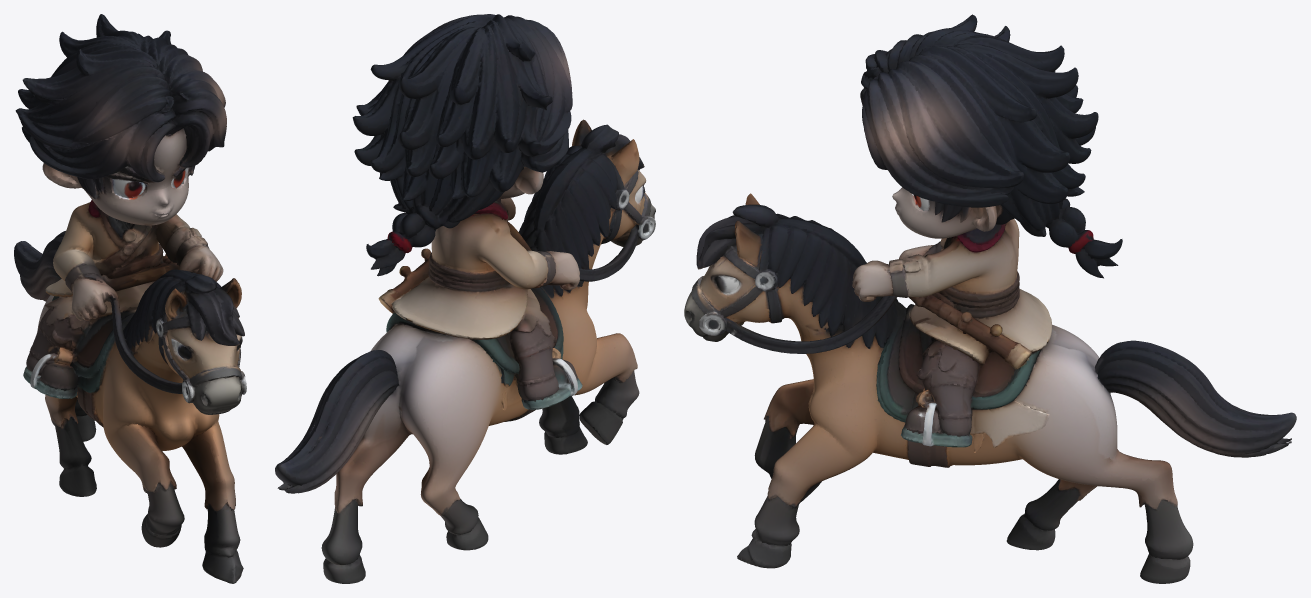
File: harinidun.glb
3 renders of one model, left to right at view 1: azimuth 30°, elevation 25°; view 2: azimuth 150°, elevation 25°; view 3: azimuth 270°, elevation 25°, orthographic. The views are drawn at different scales.
Size of the model in its own units: 1.12 by 2.7 by 2.88.
Materials: 1 (1 with a texture image).
